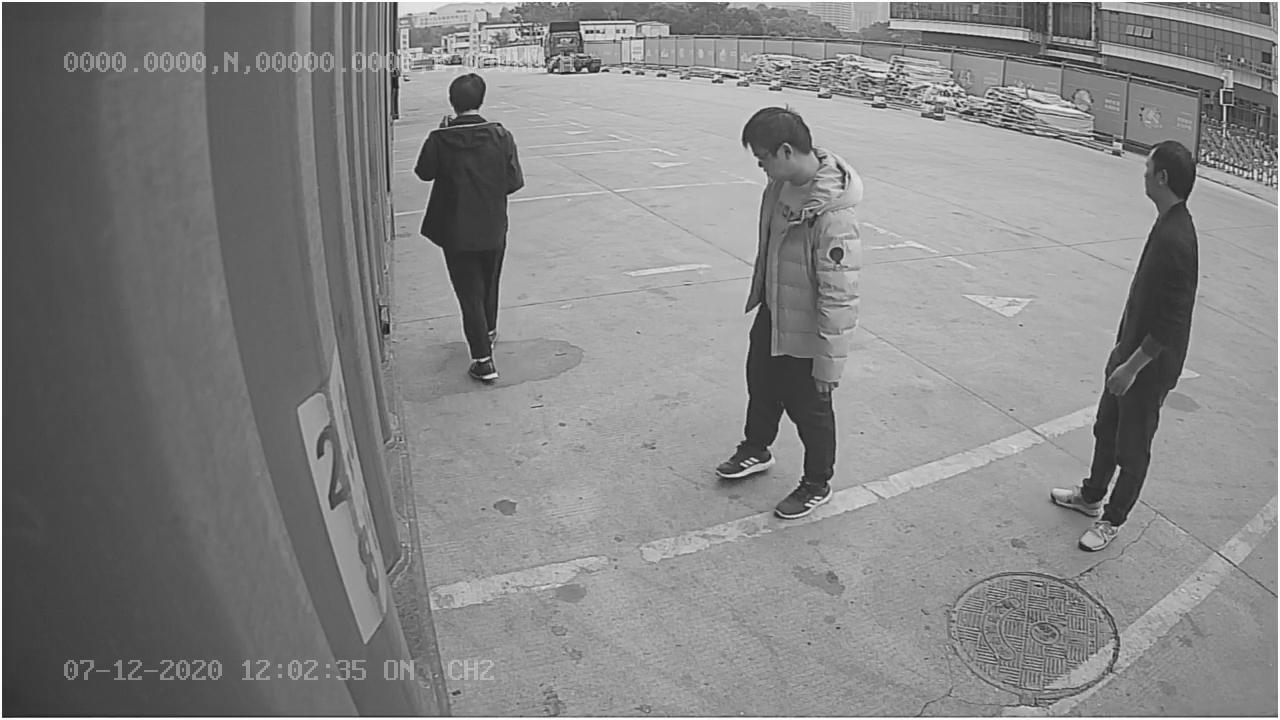person: (1052, 130, 1201, 554), (718, 100, 864, 523), (414, 73, 530, 384)
